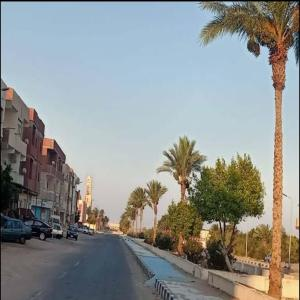palm tree: (197, 1, 300, 298), (144, 179, 167, 245), (128, 186, 149, 233)
